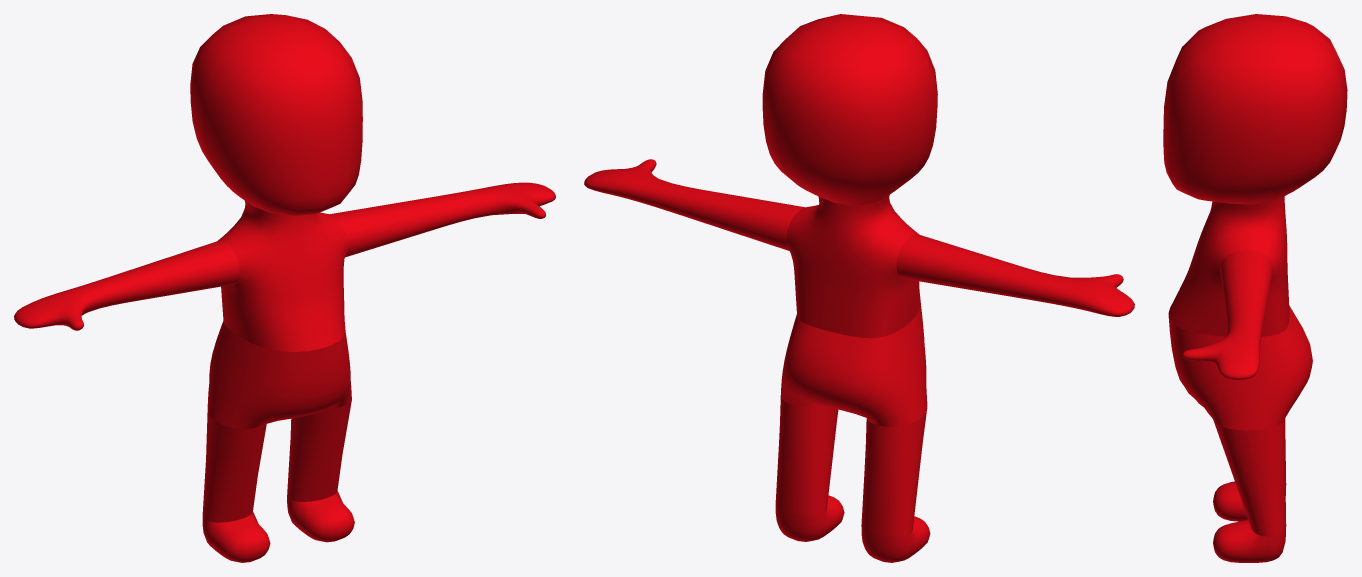
Rendered from RoninSerperate.fbx.
3 views of the same model, side by side, from view 1: azimuth 30°, elevation 25°; view 2: azimuth 150°, elevation 25°; view 3: azimuth 270°, elevation 25° (orthographic).
Parts seen in each view (by area): view 1: Head, Body Thighs, Tummy, LeftHand, RightHand, Legs; view 2: Head, Body Thighs, Tummy, LeftHand, RightHand, Legs; view 3: Head, Body Thighs, Tummy, RightHand, Legs.
Boxes of the visible parts, <box> form: Head: <box>190,14,362,215</box>; Body Thighs: <box>202,201,351,522</box>; Tummy: <box>207,321,351,429</box>; LeftHand: <box>14,240,239,330</box>; RightHand: <box>330,182,555,257</box>; Legs: <box>202,491,354,562</box>; Head: <box>762,14,937,204</box>; Body Thighs: <box>775,195,927,536</box>; Tummy: <box>780,304,927,426</box>; LeftHand: <box>896,234,1134,316</box>; RightHand: <box>584,159,804,250</box>; Legs: <box>775,495,930,562</box>; Head: <box>1163,14,1347,204</box>; Body Thighs: <box>1168,196,1289,536</box>; Tummy: <box>1168,306,1312,430</box>; RightHand: <box>1182,250,1273,379</box>; Legs: <box>1213,481,1286,562</box>.
Size of the model in its own units: 7.92 by 7.27 by 2.36.
